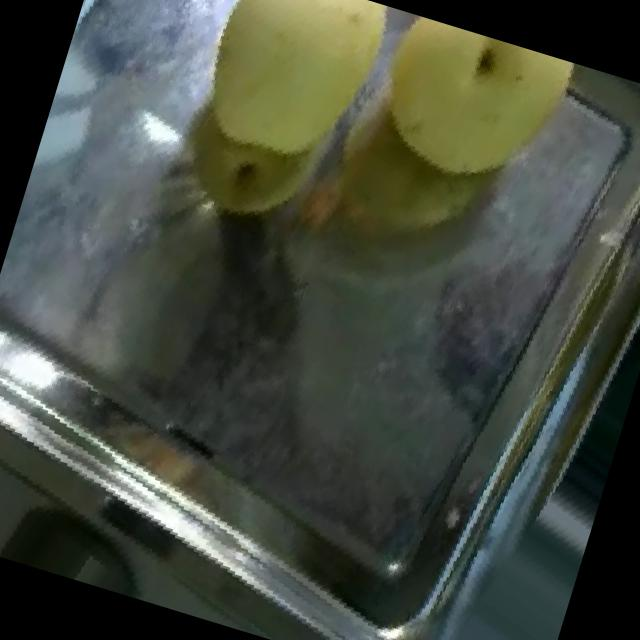Fruit: (130, 0, 427, 257), (340, 7, 605, 232)
